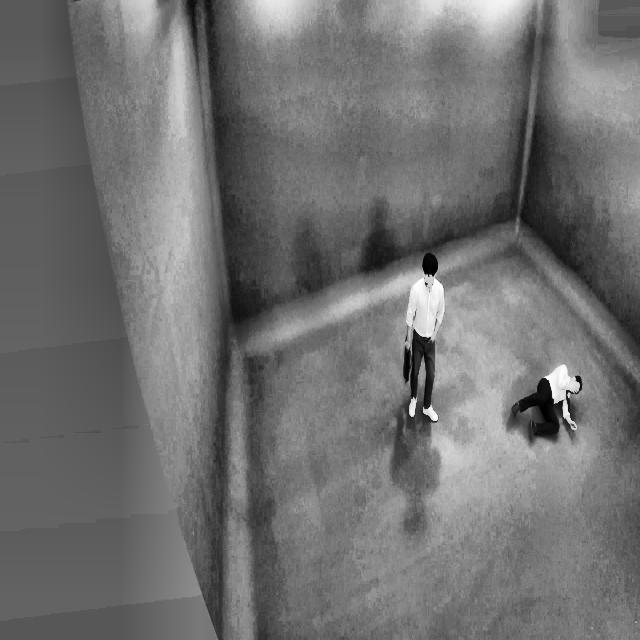assult: (398, 236, 596, 466), (504, 345, 591, 453)
